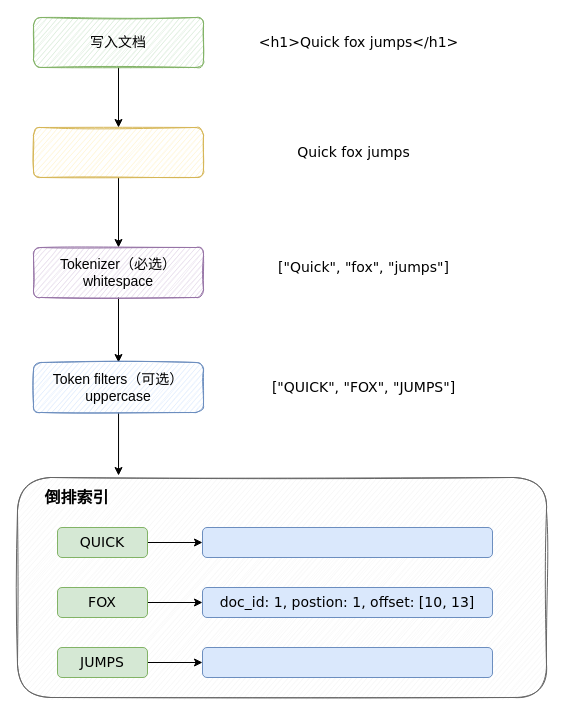
The diagram is 564 pixels wide and 715 high, and some of its shapes have lost their labels. The centre of each missing label's shape, as x and y in pixels:
Character filters （可选） html_strip: pixel 118 152
doc_id: 1, postion: 0, offset: [4, 9]: pixel 347 542
doc_id: 1, postion: 2, offset: [14, 19]: pixel 347 662
